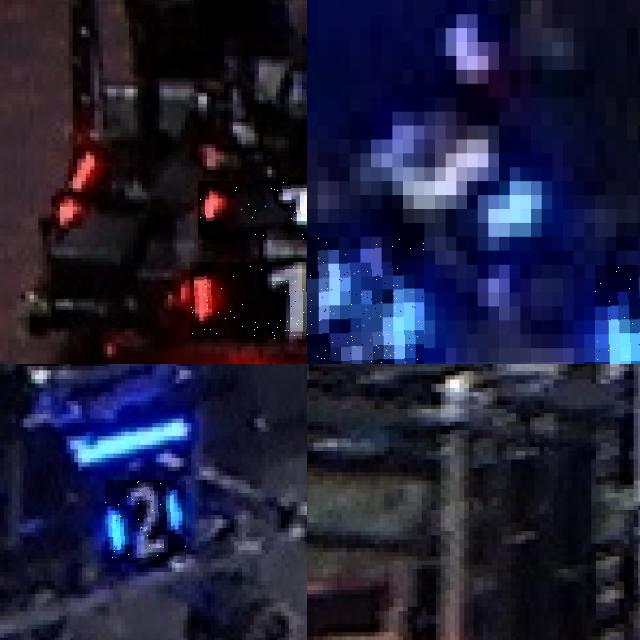B2: (106, 480, 188, 563)
B3: (307, 237, 424, 364), (595, 264, 640, 364)
R1: (189, 262, 307, 339), (198, 181, 307, 240)
